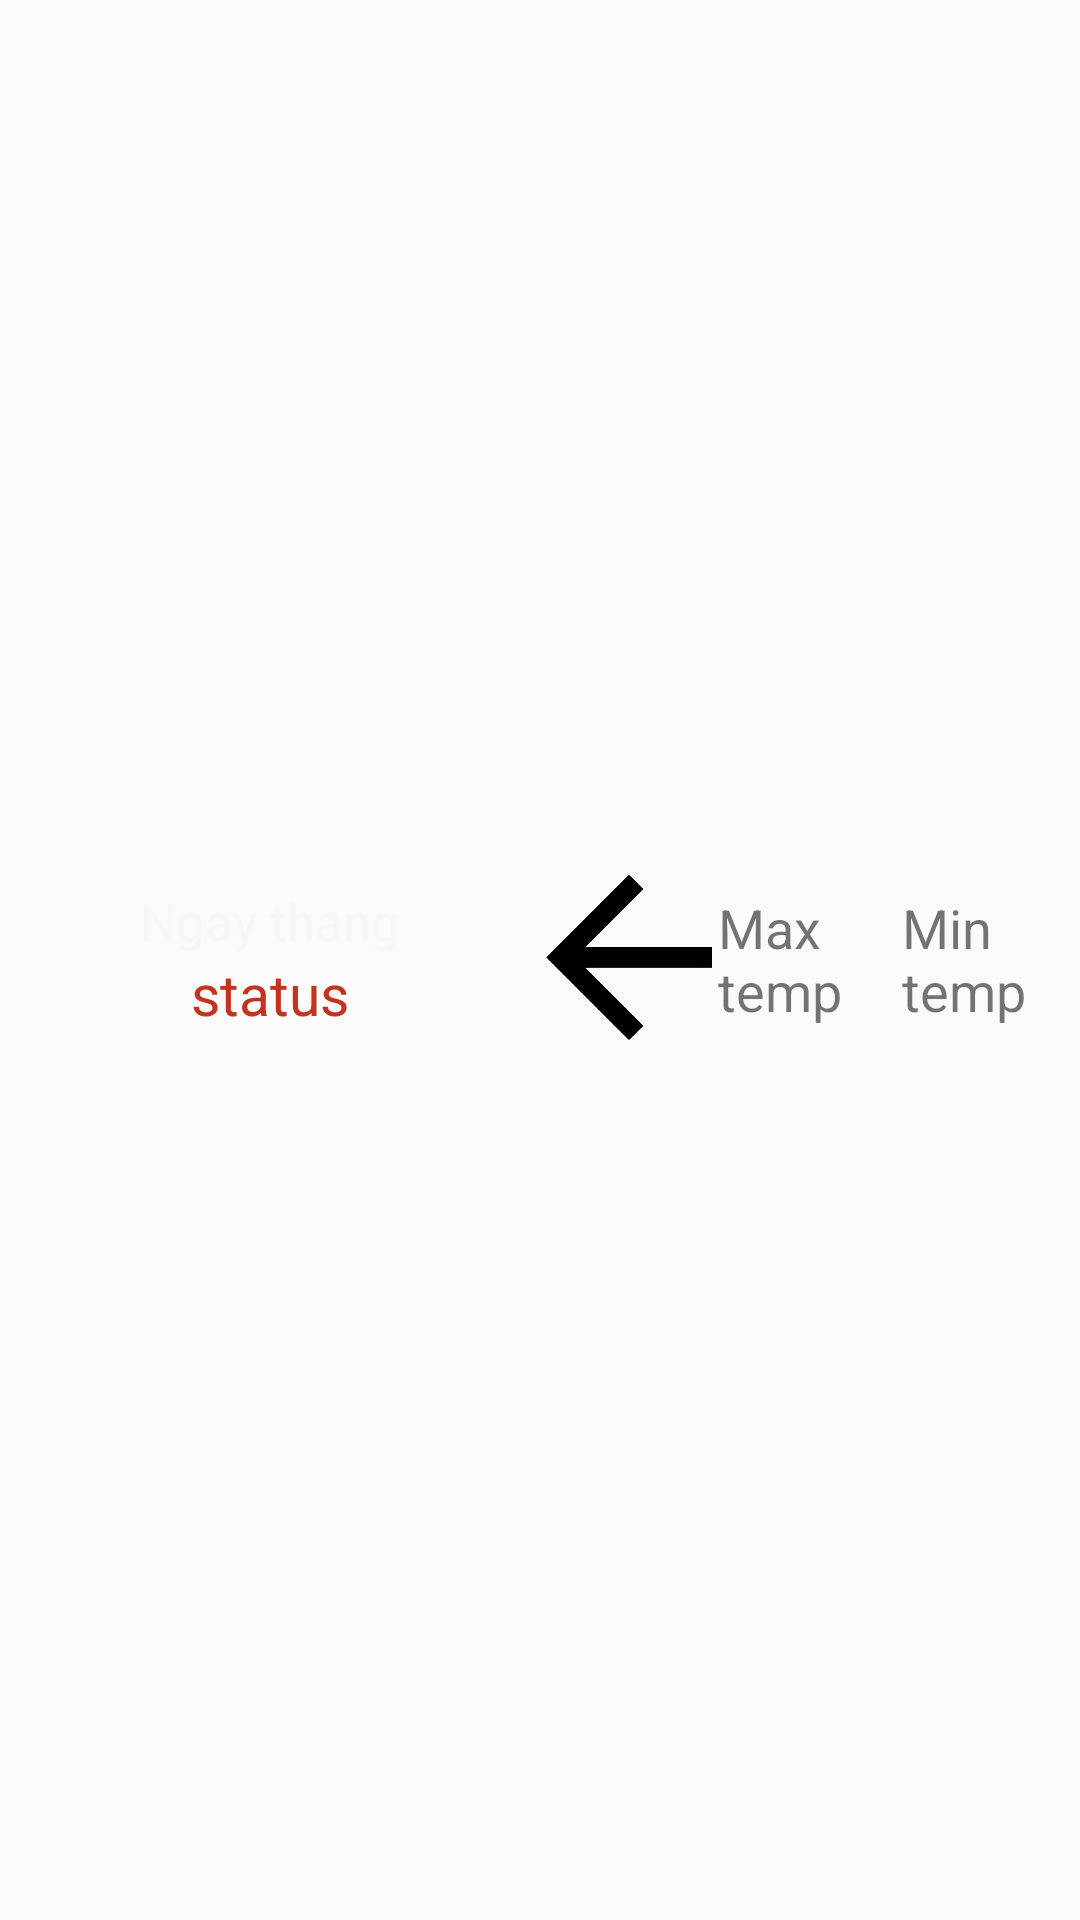

Point at icon controls on the screen. Image size 1080w x 1920h, points as point (x, y).
back: point (629, 957)
